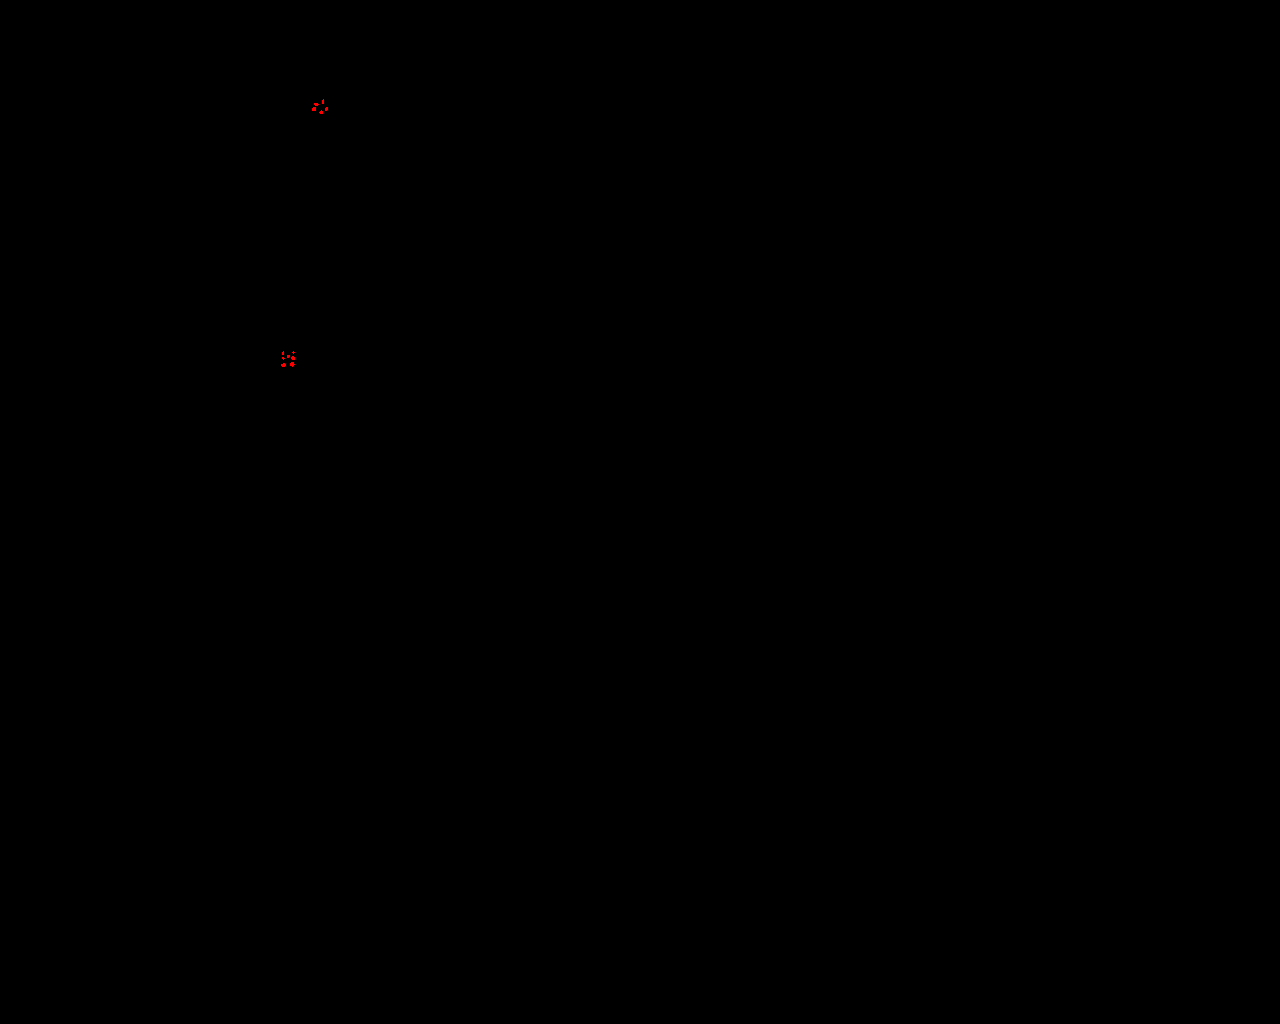Target: (290, 362, 295, 367), (281, 363, 286, 367), (319, 110, 323, 114), (290, 356, 295, 360), (312, 107, 316, 111), (325, 107, 328, 111), (322, 99, 324, 104), (292, 351, 295, 354), (287, 355, 290, 358), (282, 357, 285, 360), (315, 103, 319, 106), (282, 351, 284, 355)
